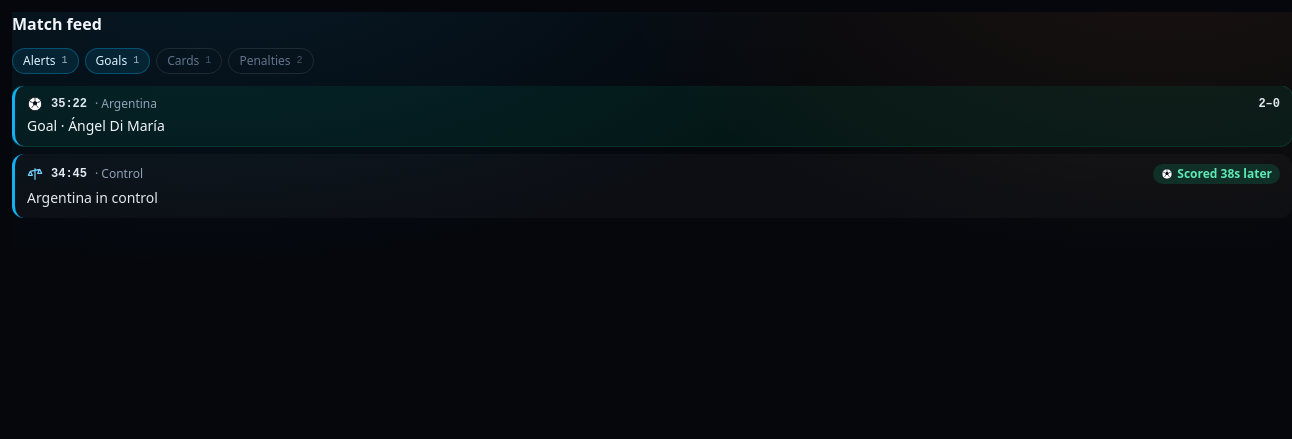
Test: MatchFeed › shows alerts and goals at first, and can show cards and penalties too, with how many of each
Expected: the element named "Show" reads "Alerts 1 Goals 1 Cards 1 Penalties 2", [12,48,314,74]
Expected: the list items read "35:22· Argentina2–0Goal · Ángel Di María", "34:45· Control Scored 38s laterArgentina in control", in this order, [12,86,1291,146]; [12,154,1291,218]
Click the button "Cards 1".
click(189, 61)  # box [156,48,222,74]
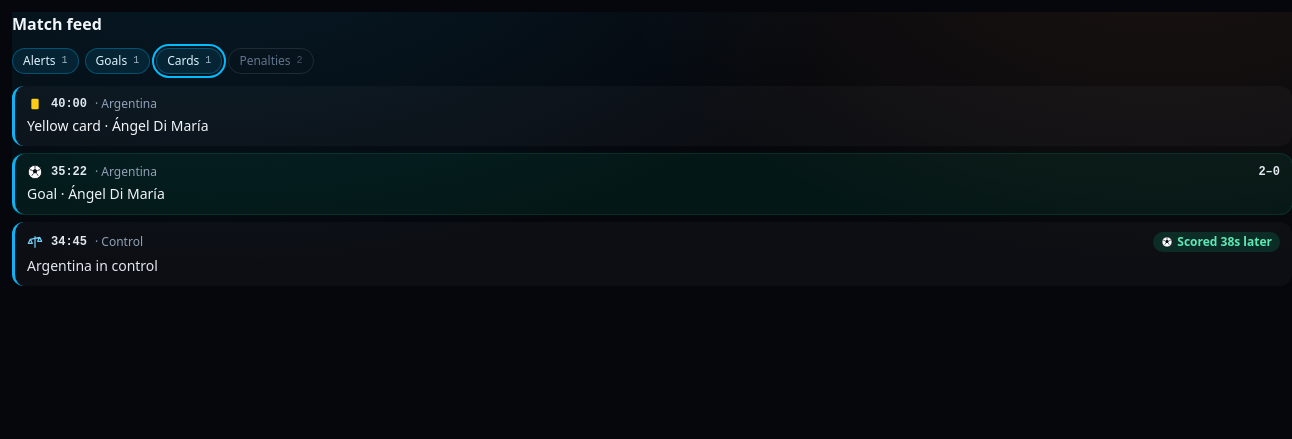
Click the button "Penalties 2".
click(271, 61)  # box [228,48,314,74]
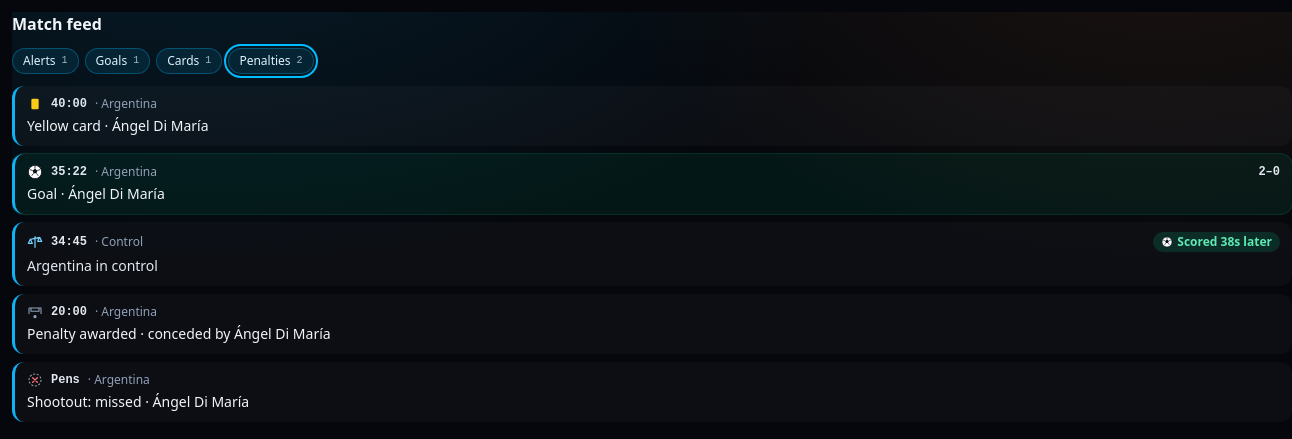
Now the number of list items is 5, box [12,86,1291,146]; [12,154,1291,214]; [12,222,1291,286]; [12,294,1291,354]; [12,362,1291,422]
Click the button "Alerts 1".
click(45, 61)  # box [12,48,79,74]
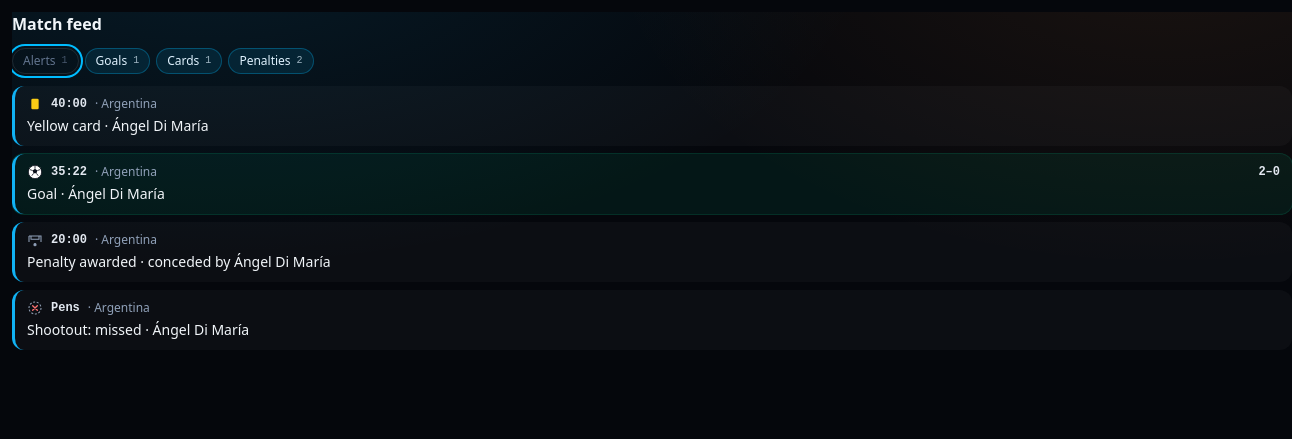
Click the button "Goals 1".
click(117, 61)  # box [85,48,150,74]
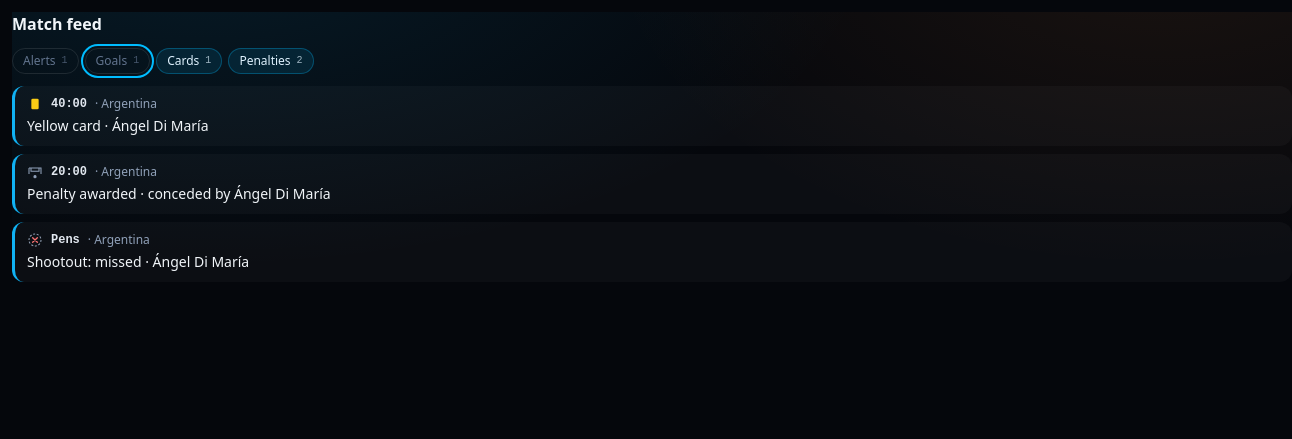
Click the button "Cards 1".
click(189, 61)  # box [156,48,222,74]
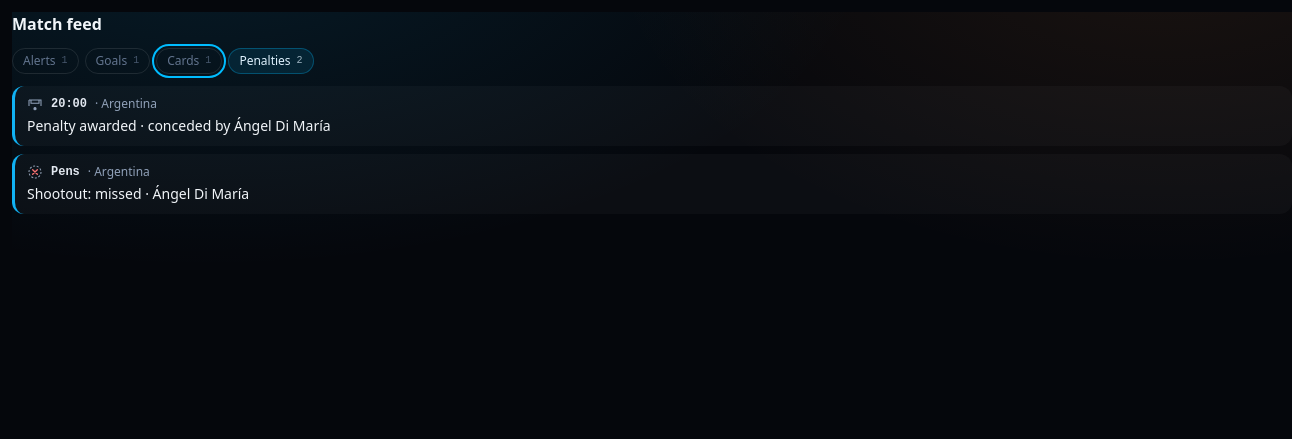
Click the button "Penalties 2".
click(271, 61)  # box [228,48,314,74]
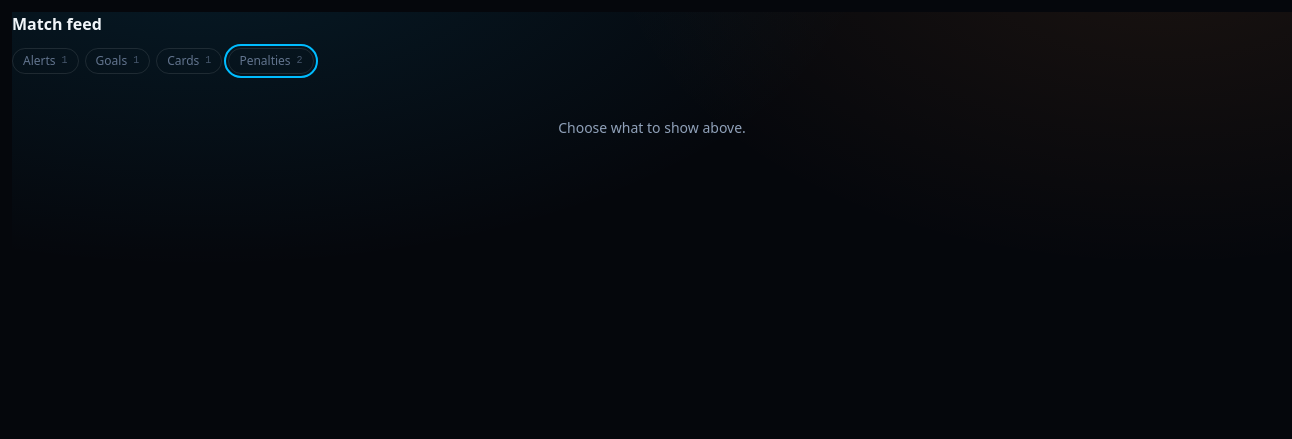
Now the text "Choose what to show above." is shown, box [558,118,746,137]
